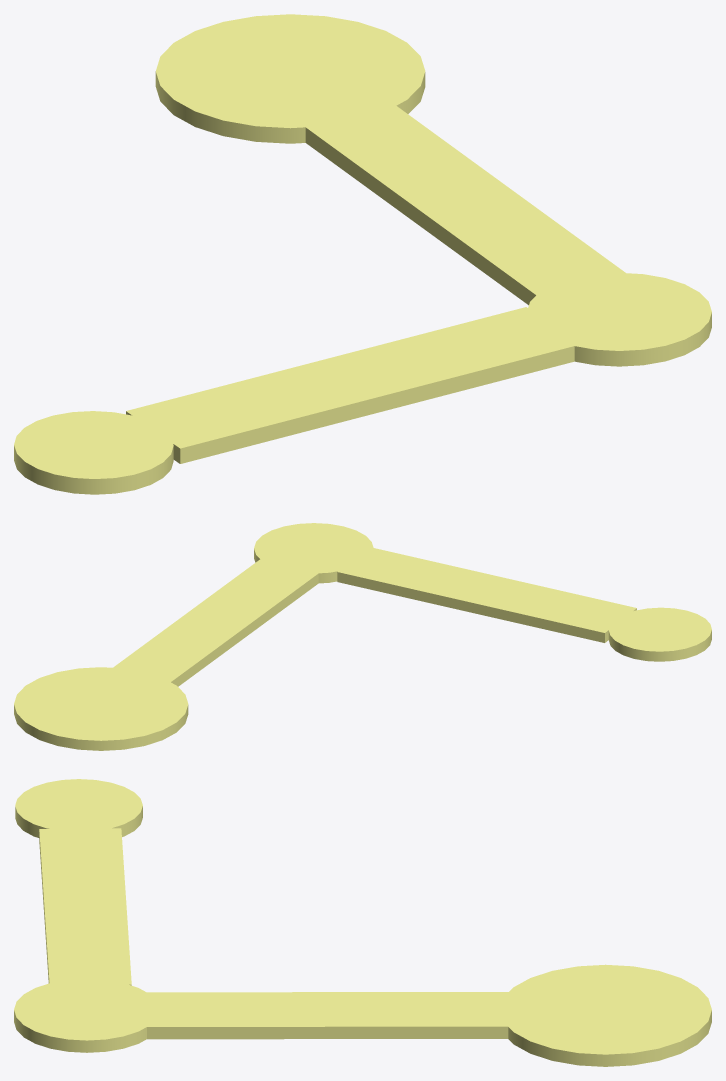
The model's file is stage kari.fbx.
3 views of the same model, one above another, from view 1: azimuth 30°, elevation 25°; view 2: azimuth 150°, elevation 25°; view 3: azimuth 270°, elevation 25° (orthographic). The views are drawn at different scales.
Visible parts, largest first — view 1: pDisc4; view 2: pDisc4; view 3: pDisc4.
Boxes of the visible parts, x1=… form: pDisc4: x1=14, y1=14, x2=711, y2=494; pDisc4: x1=14, y1=523, x2=711, y2=750; pDisc4: x1=14, y1=779, x2=711, y2=1066.
Size of the model in its own units: 11316 by 235 by 12111.
